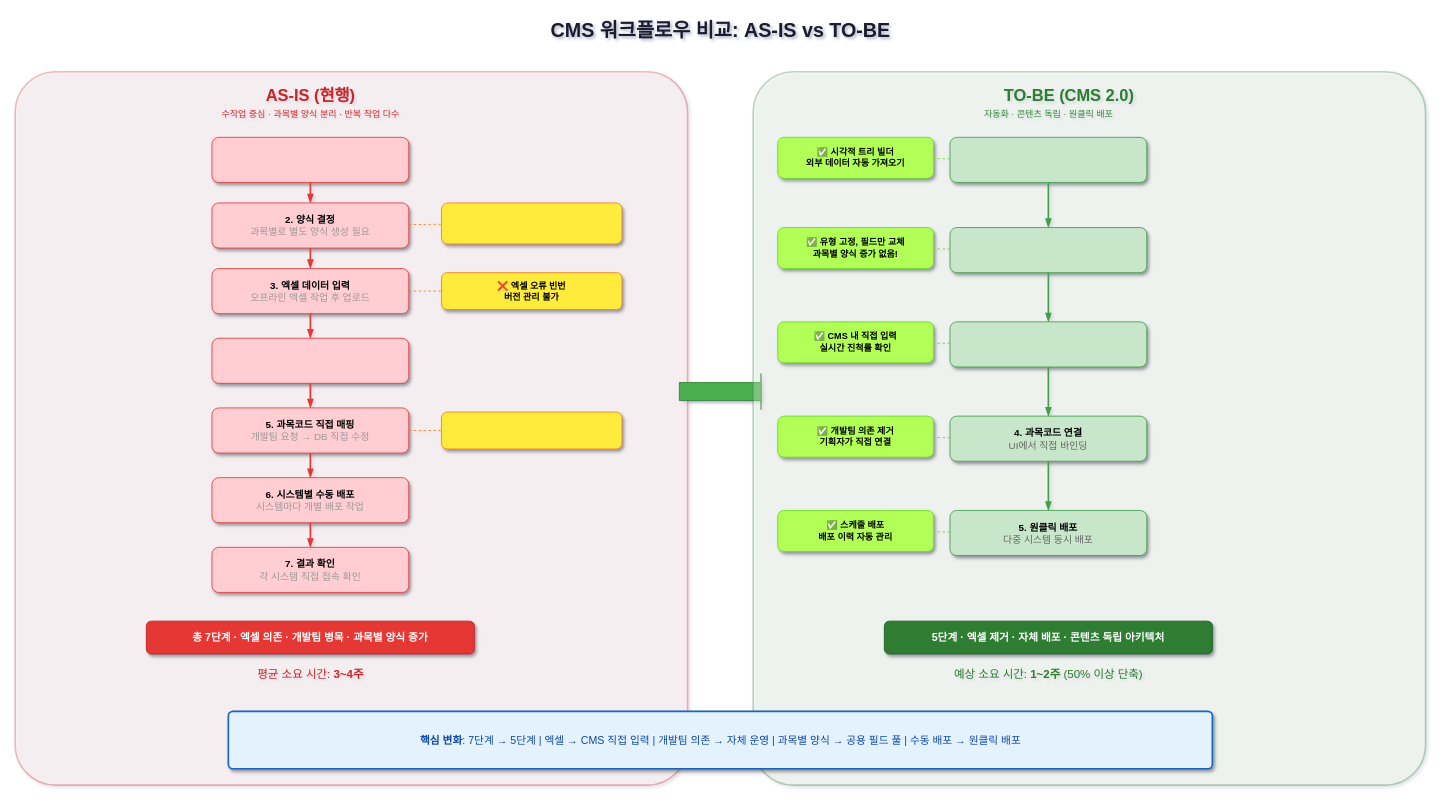
This 1445x804 diagram has some shape labels left out. Each missing label, with the centre of its shape:
"1. 과목코드 확인 JiniWorks에서 수동 조회" goes at point (311, 160).
"1. 커리큘럼 설계 트리 편집기로 구조 설계" goes at point (1049, 160).
"2. 양식 구성 (필드 풀) 공용 필드 풀에서 조합" goes at point (1049, 250).
"3. 콘텐츠 등록 + 검수 칸반 보드에서 작업 추적" goes at point (1049, 345).
"4. 검수 요청 메일/메신저로 수동 요청" goes at point (311, 361).
"❌ 개발팀 의존 리드타임 1~2주" goes at point (532, 431).
"❌ 국어_해답지, 영어_해답지... 과목마다 양식 증가!" goes at point (532, 224).
"혁신" goes at point (720, 391).
